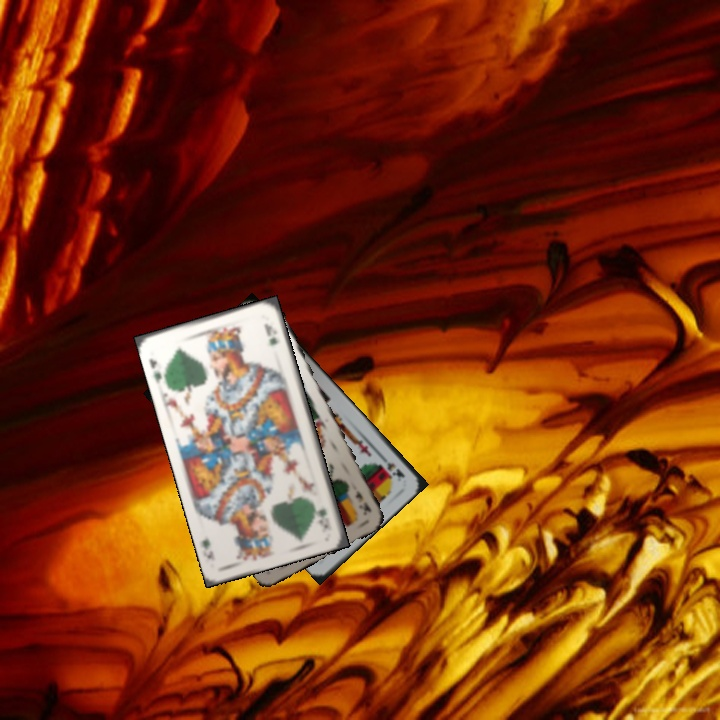EK: (351, 487, 374, 517)
GK: (145, 354, 164, 387), (314, 504, 331, 531)
SK: (376, 450, 407, 480)
